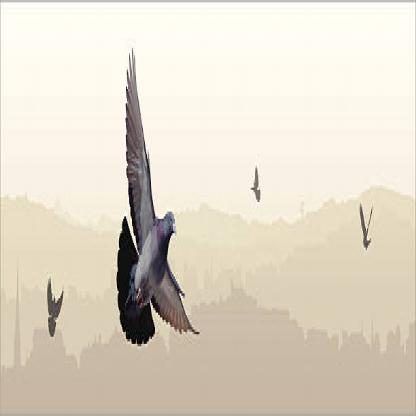Flying Rat: (99, 53, 207, 350)
